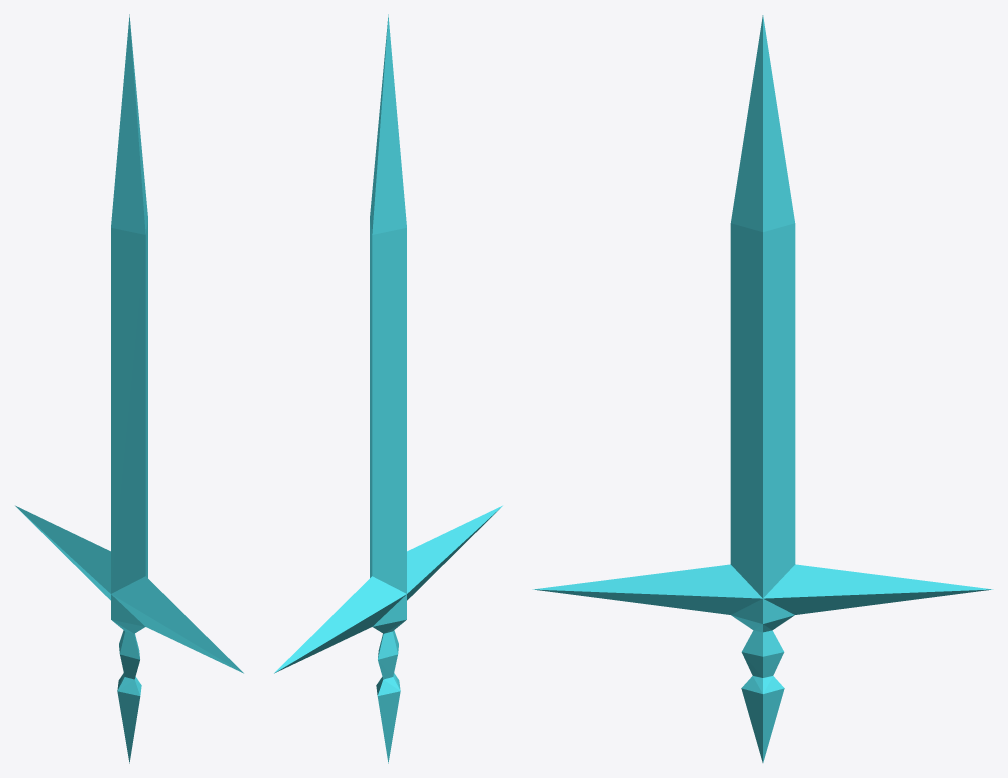
File: iceSord2.fbx
3 renders of one model, left to right at view 1: azimuth 30°, elevation 25°; view 2: azimuth 150°, elevation 25°; view 3: azimuth 270°, elevation 25°, orthographic.
Parts seen in each view (by area): view 1: polymsh; view 2: polymsh; view 3: polymsh.
Part boxes in pixels (box(x1,y1,x2,y2)): polymsh: box(15, 14, 243, 763); polymsh: box(274, 14, 502, 763); polymsh: box(532, 15, 993, 762).
Bounding box in the file's own units: 4.27 × 82.27 × 45.9.
Materials: 1 (1 with a texture image).
